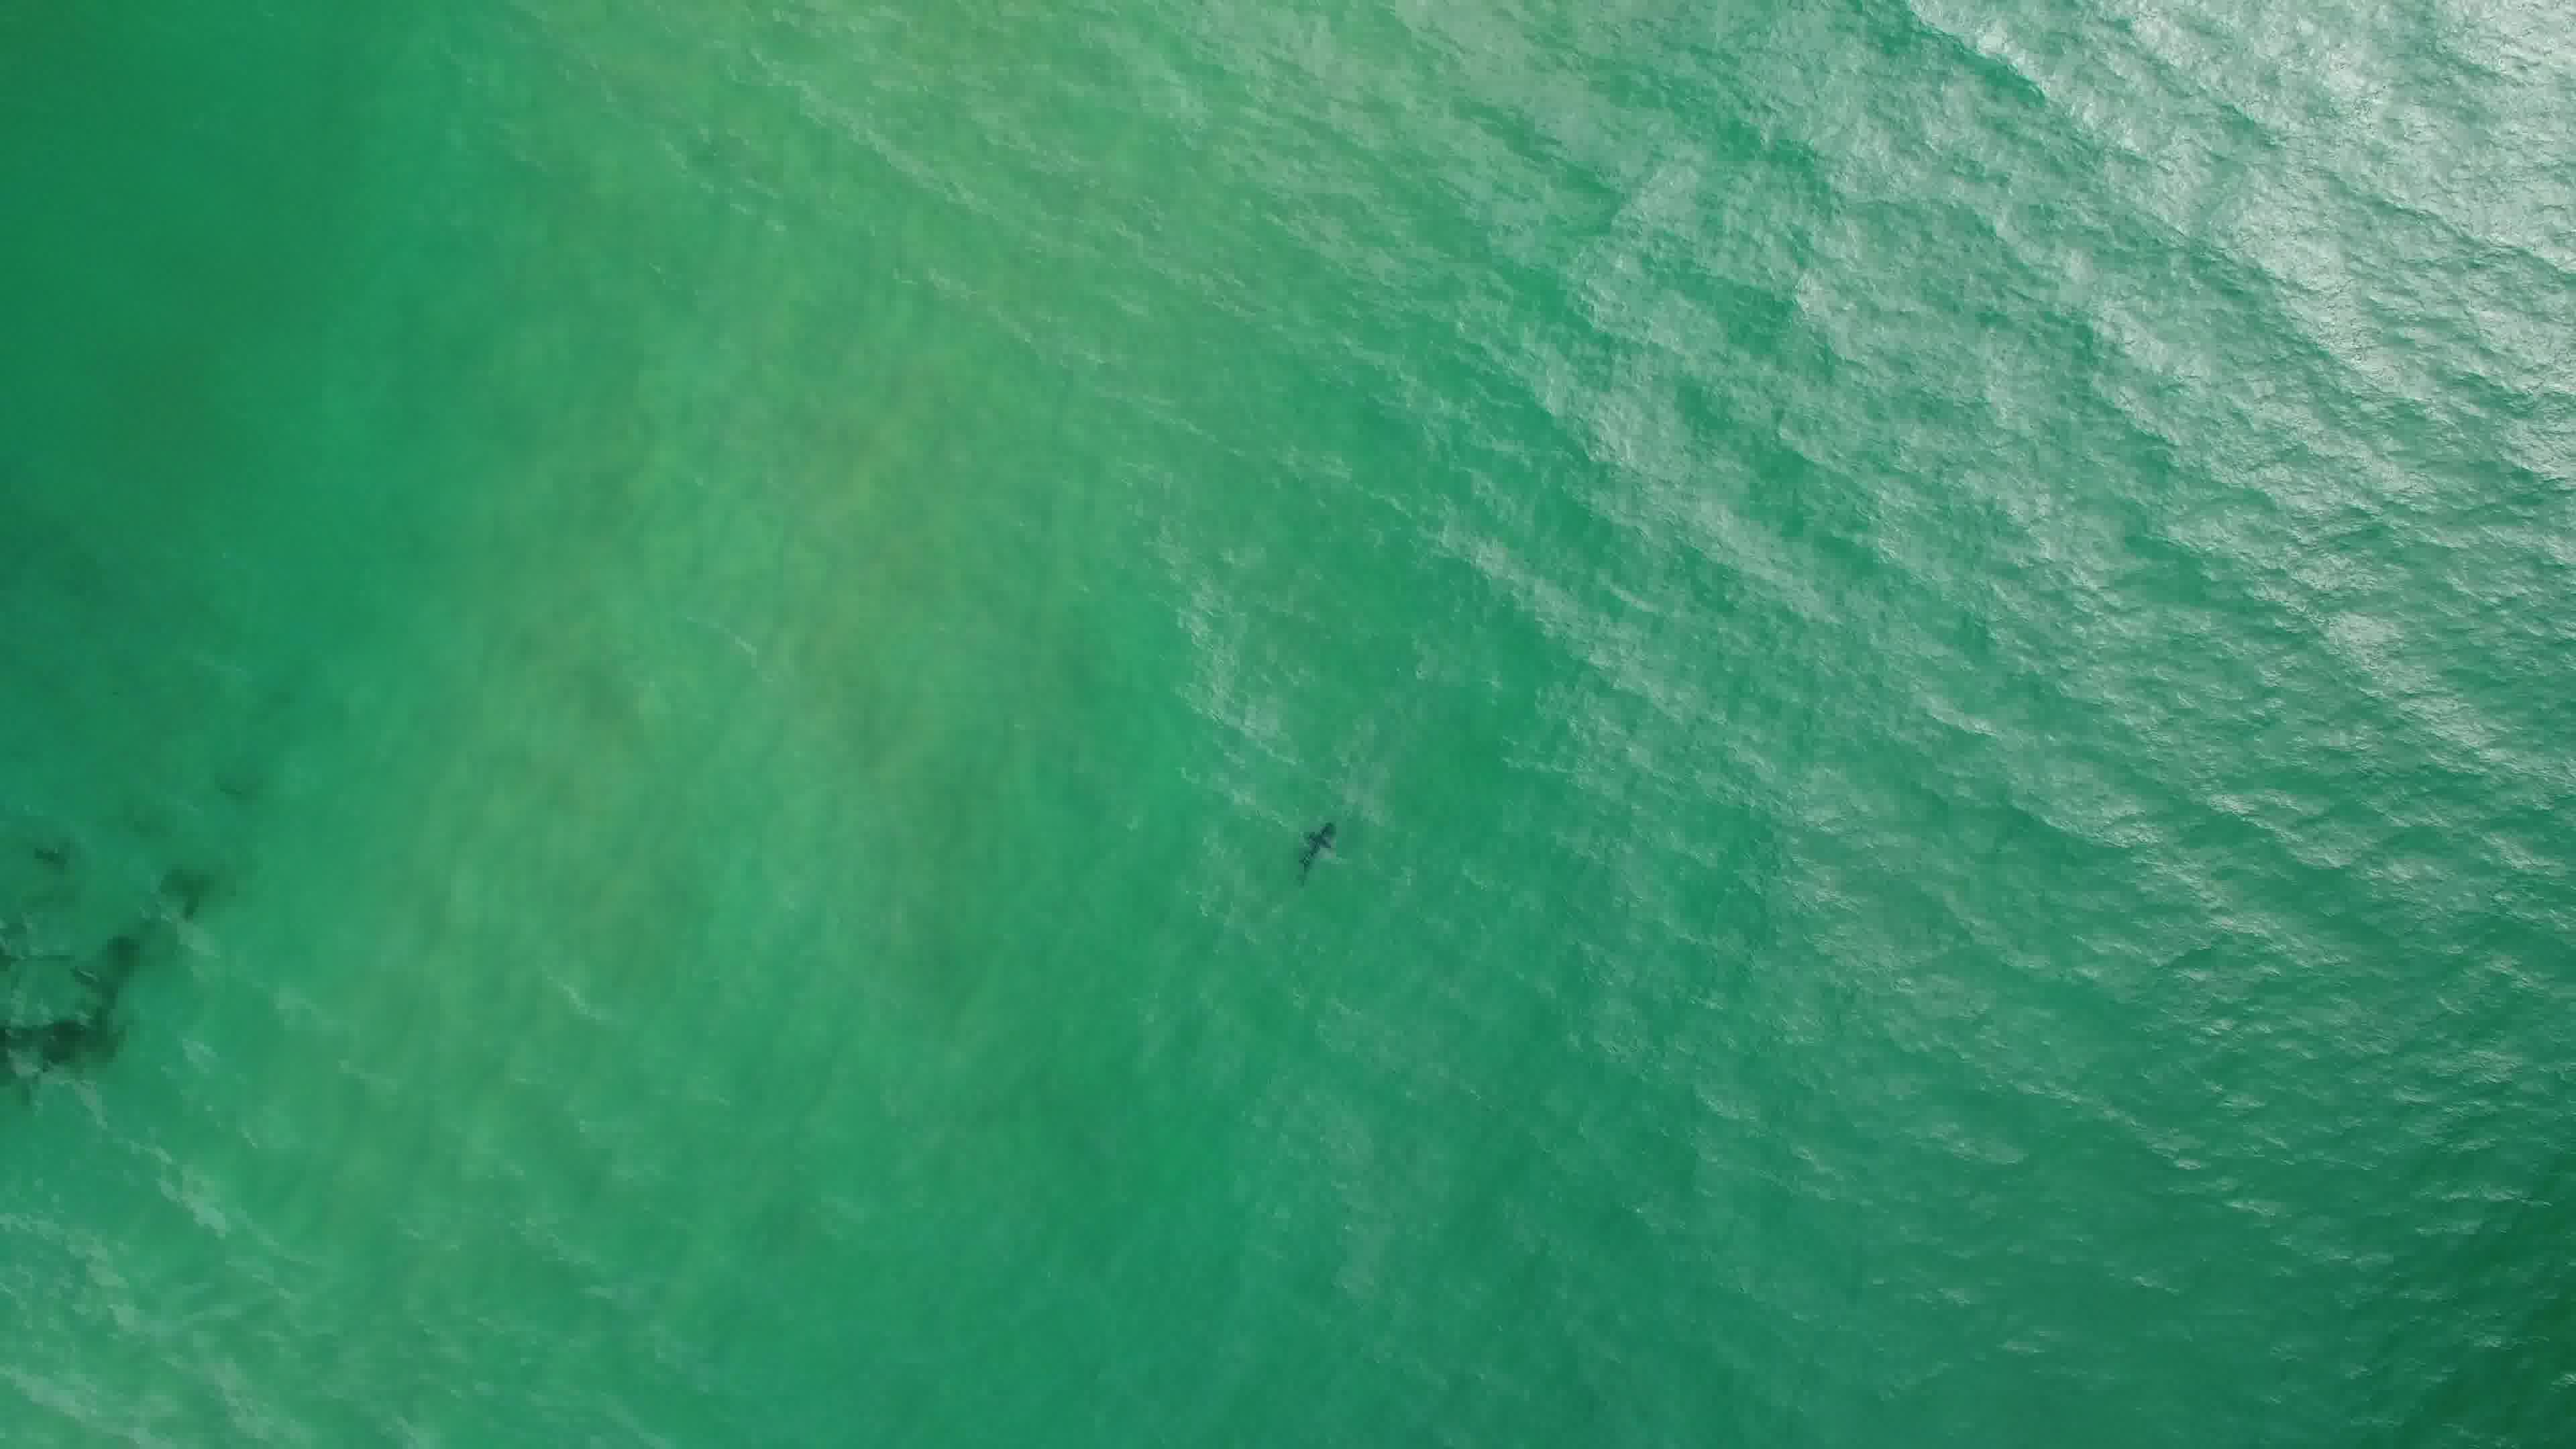shark: (1288, 819, 1348, 890)
